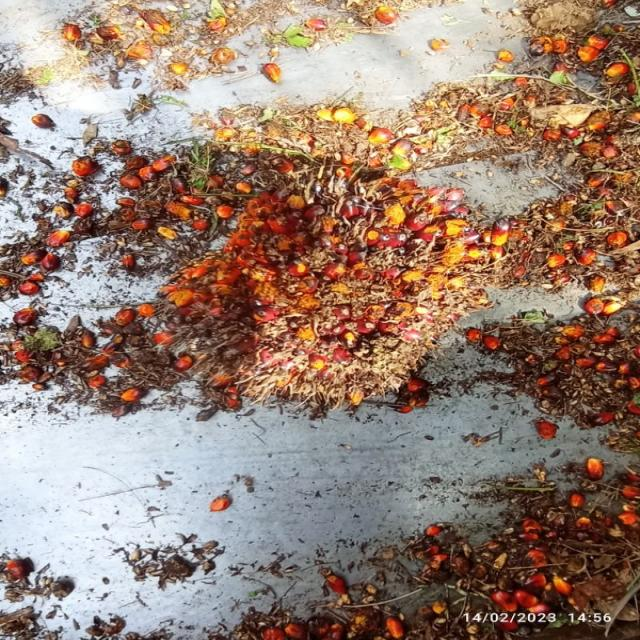fraksi 1: (125, 90, 529, 436)
